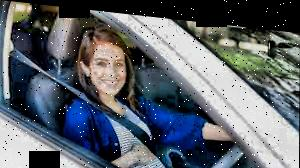seatbelt: (5, 41, 170, 156)
